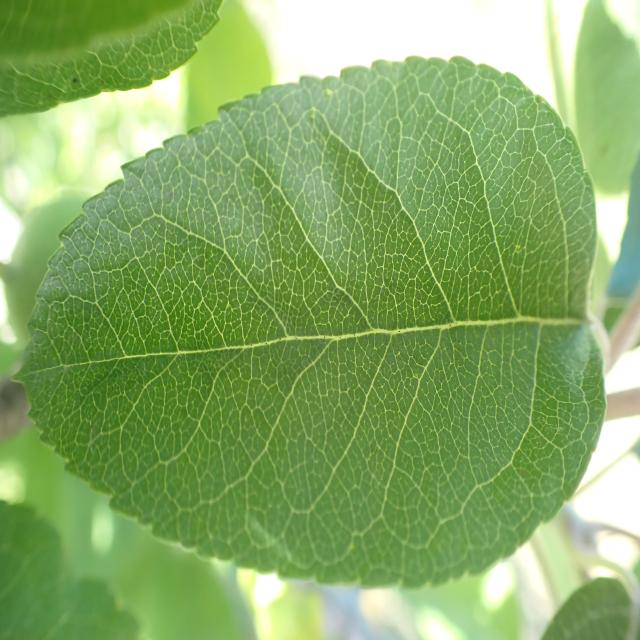healthy: (11, 54, 607, 588), (0, 0, 225, 118)
